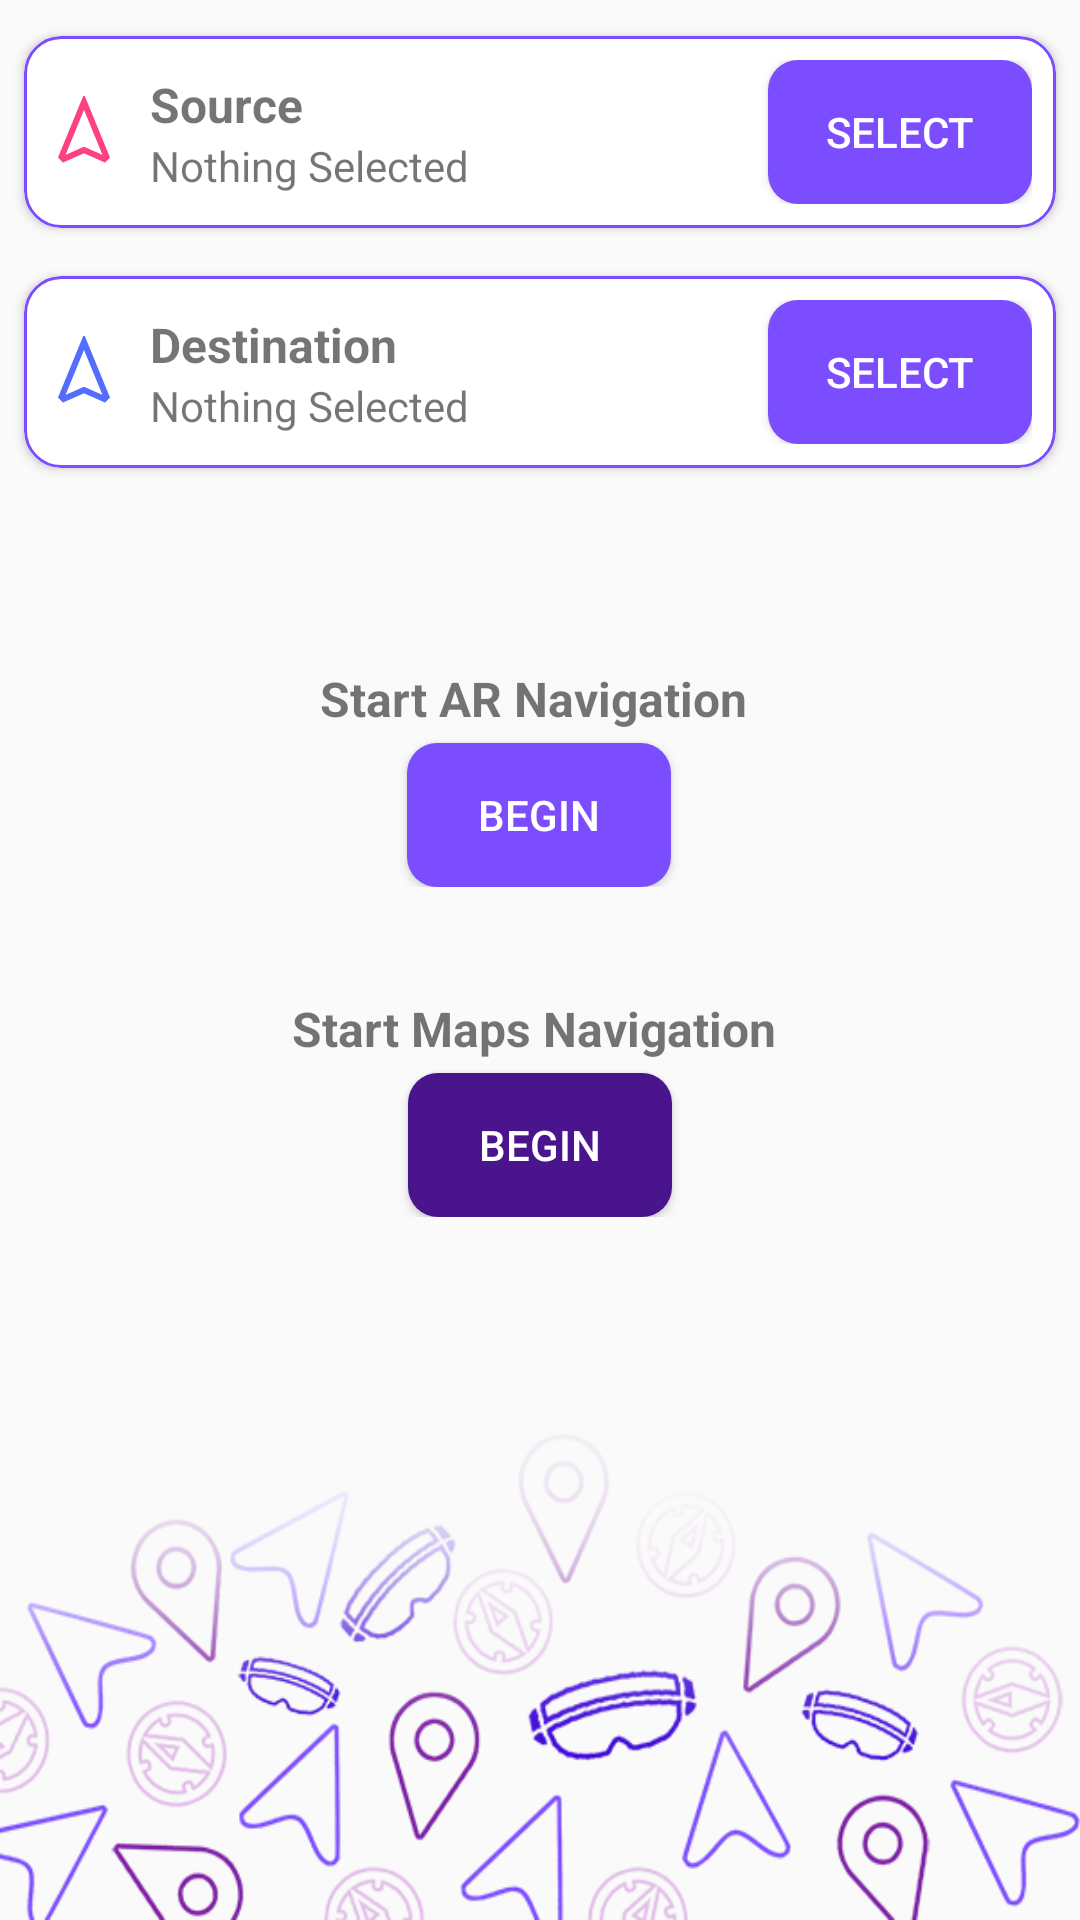

Point at icon controls on the screen. Image size 1080×1920, points as point (x, y).
navigation stroke: point (84, 129), point (84, 369)
